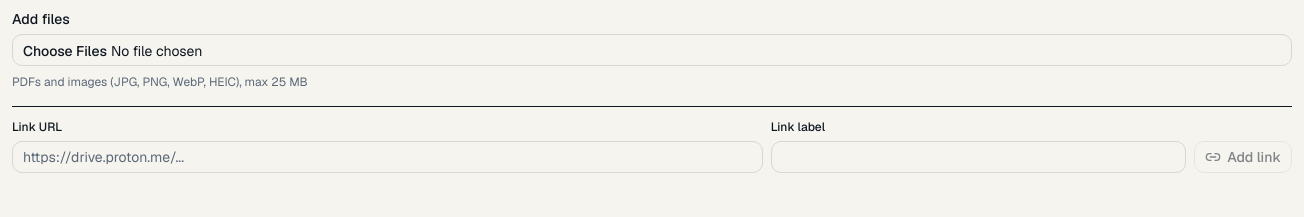
Test: PendingAttachmentsField › rejects a non-http link
The width and height of the screenshot is (1304, 217).
Type "ftp://nope" into the field labelled "Link URL" at (387, 157), box [12, 141, 763, 173]
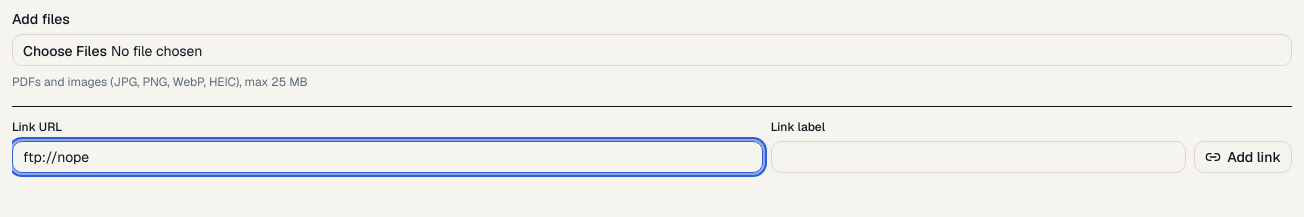
Click the button "Add link" at (1243, 157), box [1194, 141, 1292, 173]
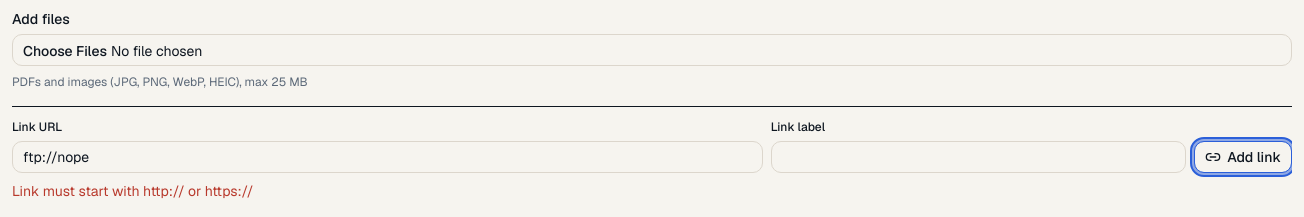
expect the text "Link must start with http:// or https://" is shown: met, box [12, 182, 254, 200]
